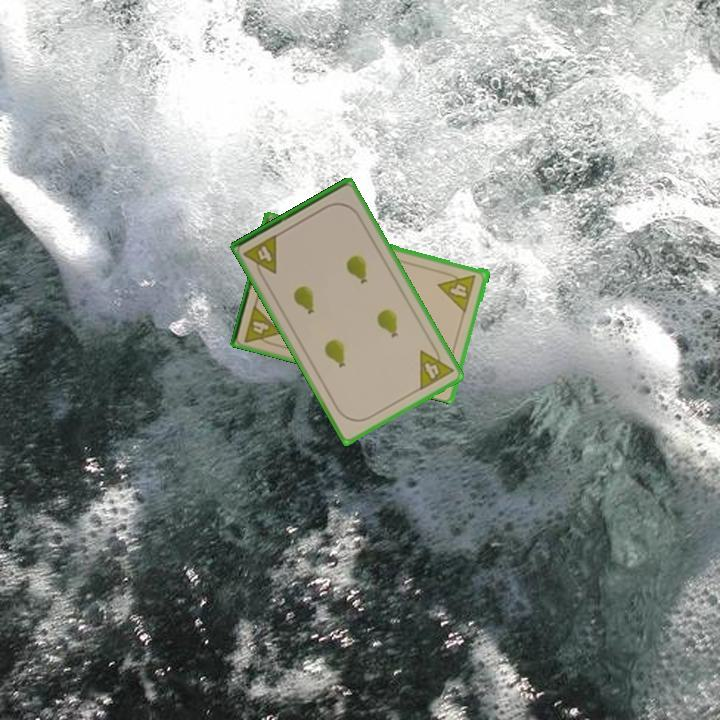4p: (416, 340, 456, 393), (240, 231, 281, 282), (241, 301, 284, 349), (436, 267, 479, 314)
